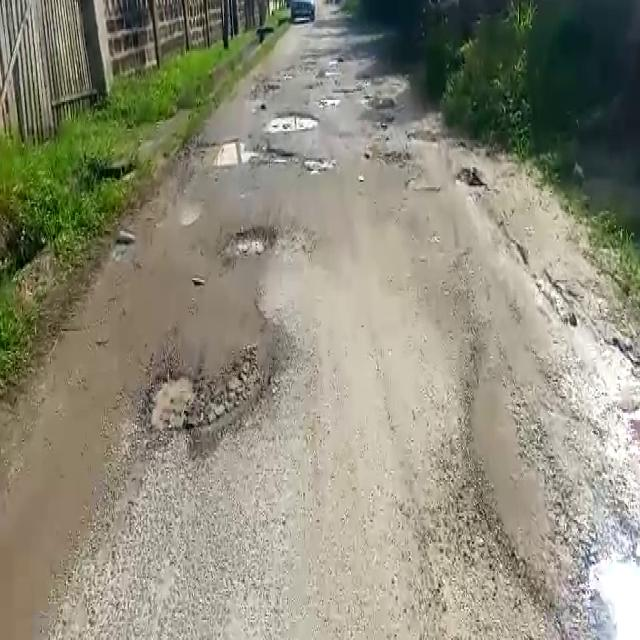Pothole: (135, 336, 286, 456), (585, 548, 639, 640), (208, 140, 298, 168), (221, 222, 281, 260), (264, 109, 322, 131), (300, 152, 335, 173)
